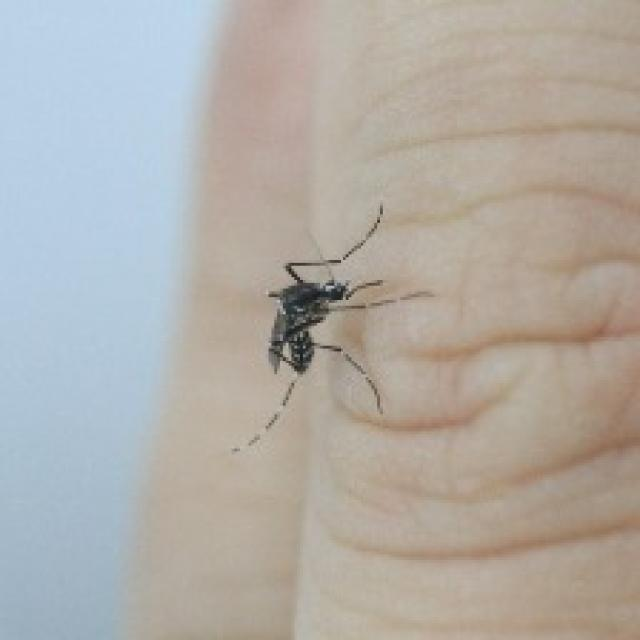aedes: (229, 200, 434, 454)
